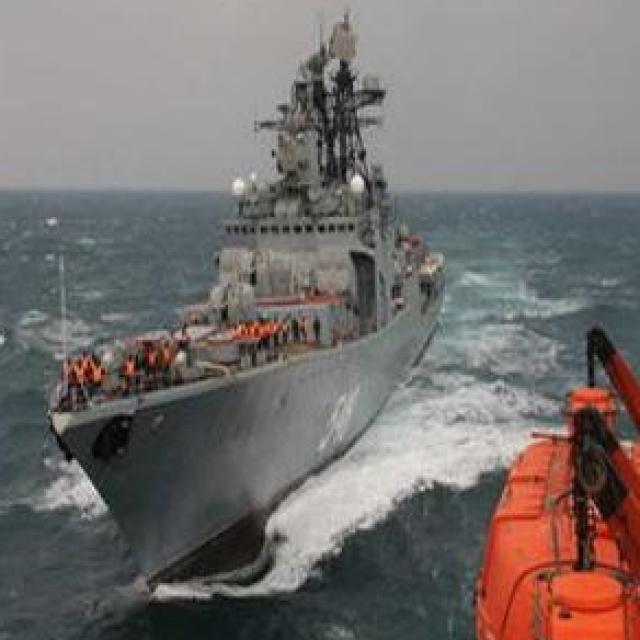navalvessels: (48, 4, 453, 574)
